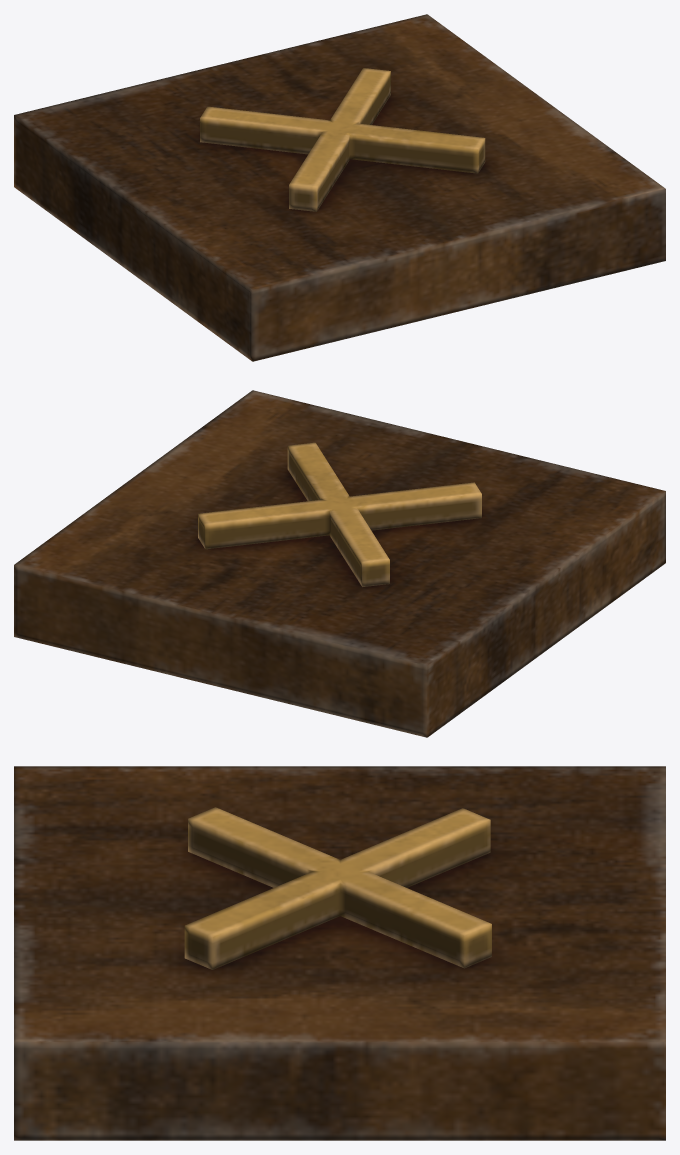
3 renders of one model, top to bottom at view 1: azimuth 30°, elevation 25°; view 2: azimuth 150°, elevation 25°; view 3: azimuth 270°, elevation 25°, orthographic. The views are drawn at different scales.
Visible parts, largest first — view 1: mesh_001_low.001; view 2: mesh_001_low.001; view 3: mesh_001_low.001.
Part boxes in pixels (x1,y1,x2,y2): mesh_001_low.001: (14, 14, 665, 361); mesh_001_low.001: (14, 390, 665, 737); mesh_001_low.001: (14, 766, 665, 1140).
Bounding box in the file's own units: 0.9 × 0.2 × 0.9.
Materials: 1 (1 with a texture image).
